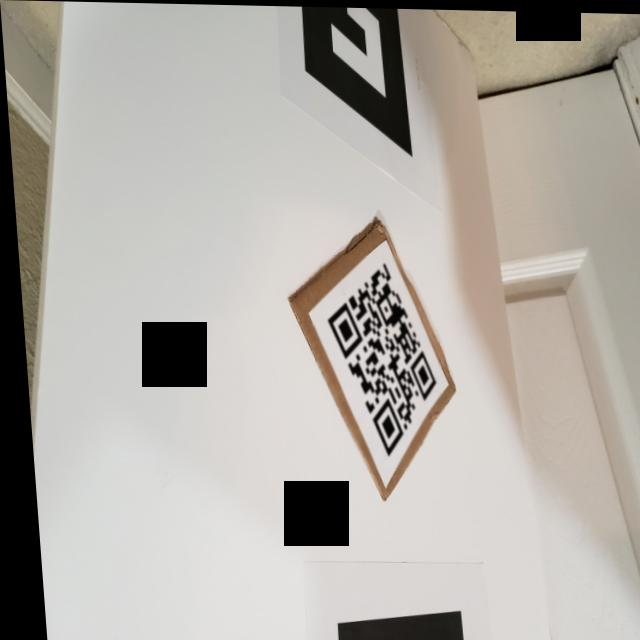QR_CODE: (303, 253, 442, 470)
